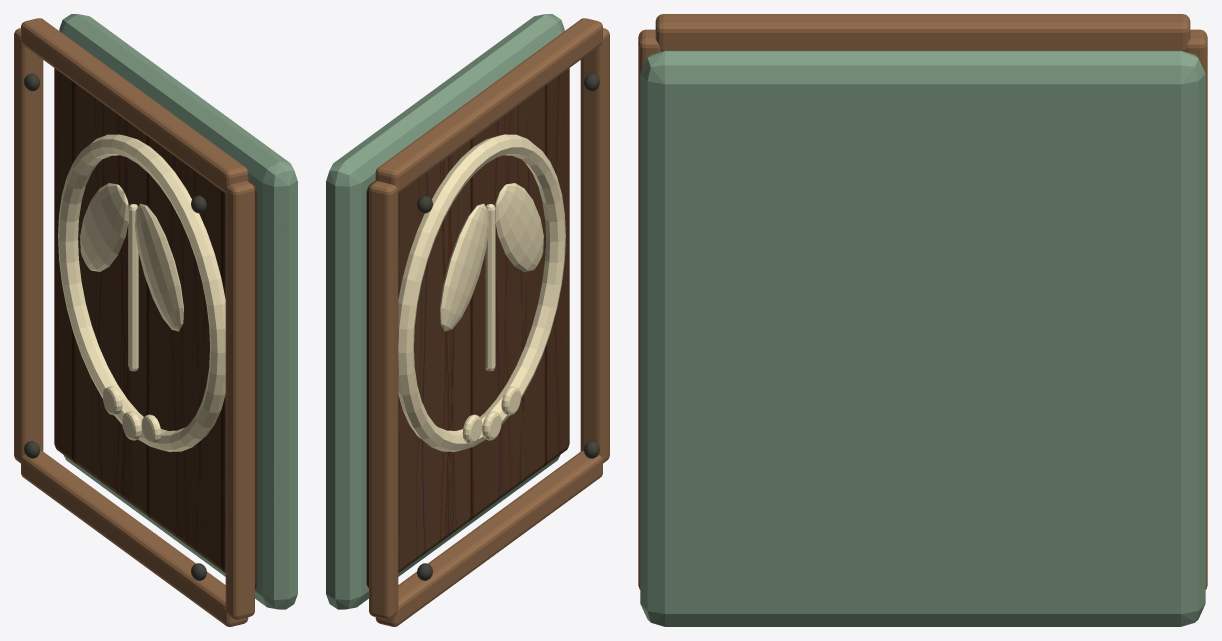
Rendered from SM_HH_Q3_GuardianSign.fbx.
3 views of the same model, side by side, from view 1: azimuth 30°, elevation 25°; view 2: azimuth 150°, elevation 25°; view 3: azimuth 270°, elevation 25° (orthographic). The views are drawn at different scales.
Visible parts, largest first — view 1: HH_Q3_GuardianSign; view 2: HH_Q3_GuardianSign; view 3: HH_Q3_GuardianSign.
Boxes of the visible parts, x1,y1,x2,y2 form: HH_Q3_GuardianSign: [14, 14, 297, 626]; HH_Q3_GuardianSign: [326, 14, 609, 626]; HH_Q3_GuardianSign: [638, 14, 1207, 626].
Size of the model in its own units: 0.745 by 0.1675 by 0.845.
